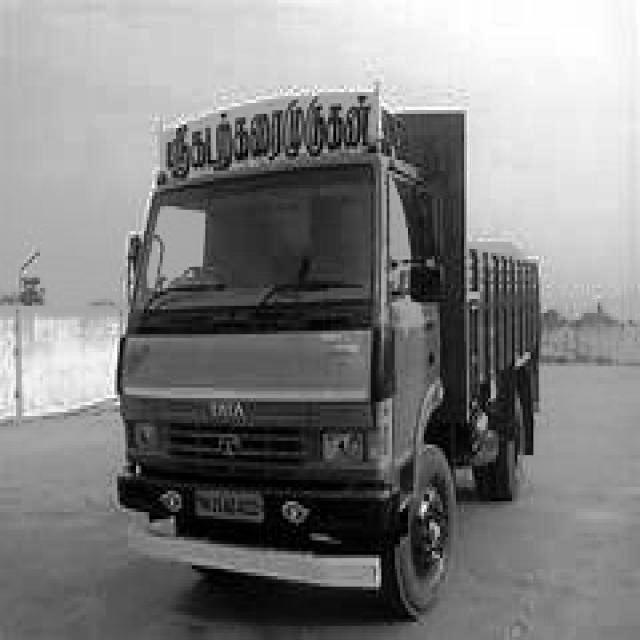HCV: (101, 62, 565, 628)
